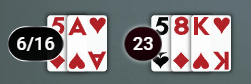5: (43, 12, 69, 39), (149, 13, 173, 39)
8: (171, 13, 192, 40)
a: (65, 10, 90, 40)
k: (189, 12, 212, 39)
